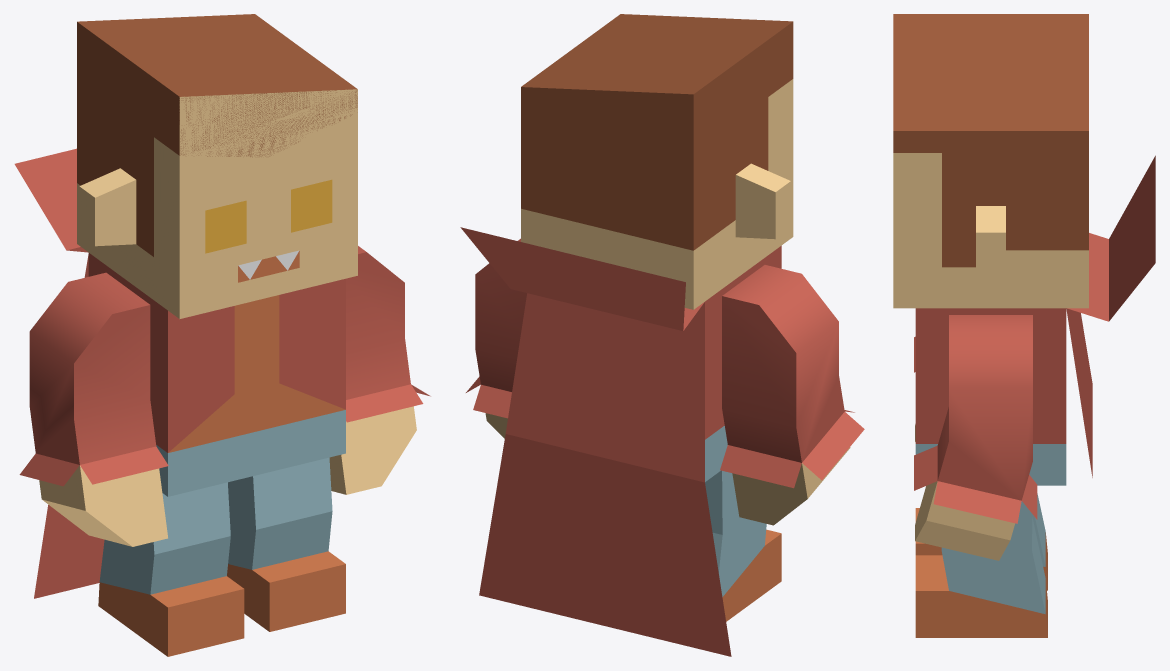
Rendered from characterVampire.dae.
The picture shows the model from 3 angles, left to right: view 1: azimuth 30°, elevation 25°; view 2: azimuth 150°, elevation 25°; view 3: azimuth 270°, elevation 25°; orthographic projection. The views are drawn at different scales.
Parts seen in each view (by area): view 1: head, body, armLeft, legLeft, legRight, armRight, cape; view 2: cape, head, armLeft, legLeft, armRight, body; view 3: head, armRight, legRight, body, cape, legLeft.
Boxes of the visible parts, x1,y1,x2,y2 form: head: [77, 14, 357, 318]; body: [88, 253, 345, 496]; armLeft: [19, 272, 168, 546]; legLeft: [98, 482, 244, 656]; legRight: [227, 457, 345, 631]; armRight: [329, 246, 430, 494]; cape: [14, 148, 104, 598]; cape: [460, 227, 731, 656]; head: [521, 14, 793, 309]; armLeft: [720, 265, 864, 525]; legLeft: [705, 470, 781, 621]; armRight: [466, 238, 526, 438]; body: [705, 245, 781, 481]; head: [893, 14, 1088, 308]; armRight: [914, 315, 1037, 560]; legRight: [915, 501, 1047, 637]; body: [915, 308, 1066, 485]; cape: [1066, 155, 1155, 477]; legLeft: [915, 493, 1047, 590].
Bounding box in the file's own units: 0.5371 × 0.7932 × 0.3489.
